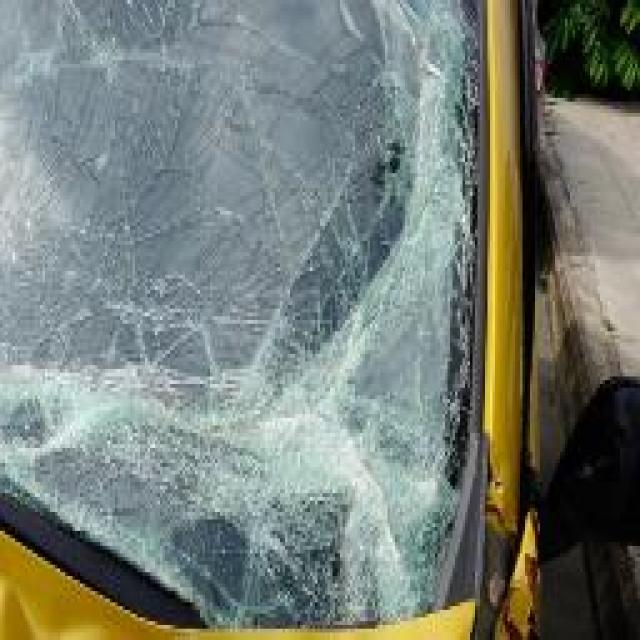Windshield: (5, 4, 520, 629)
